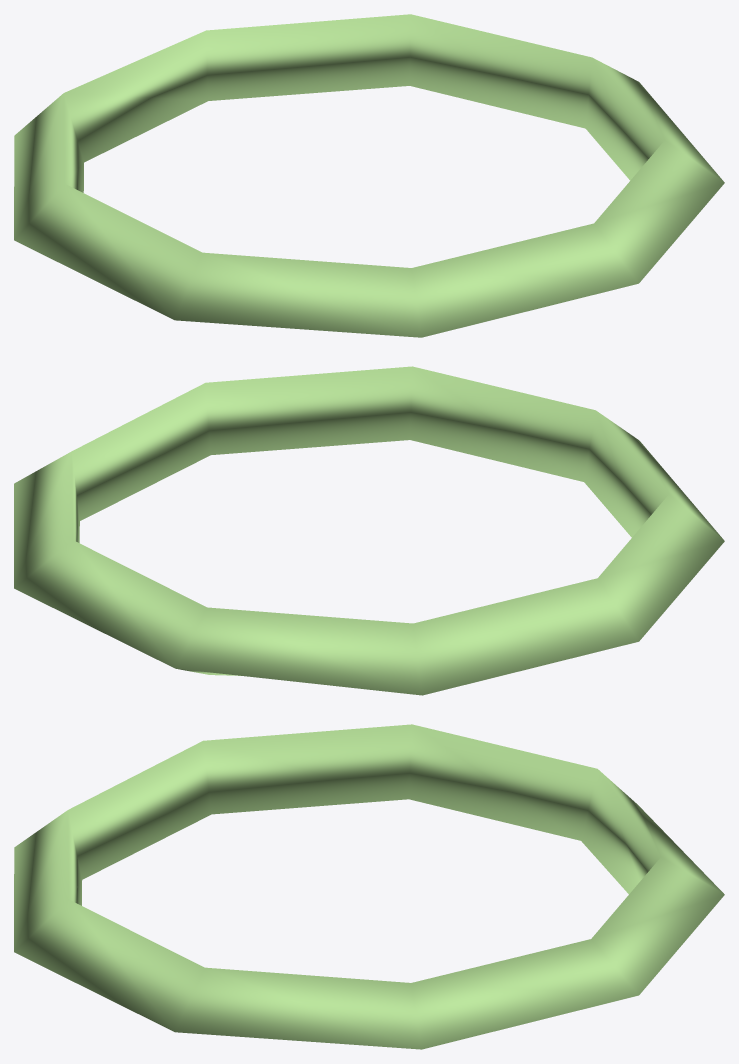
3 views of the same model, one above another, from view 1: azimuth 30°, elevation 25°; view 2: azimuth 150°, elevation 25°; view 3: azimuth 270°, elevation 25° (orthographic).
Parts seen in each view (by area): view 1: Torus001; view 2: Torus001; view 3: Torus001.
Boxes of the visible parts, x1,y1,x2,y2 form: Torus001: (14,14,724,337); Torus001: (14,366,724,695); Torus001: (14,724,724,1049).
Bounding box in the file's own units: 65.72 × 7.26 × 64.81.
